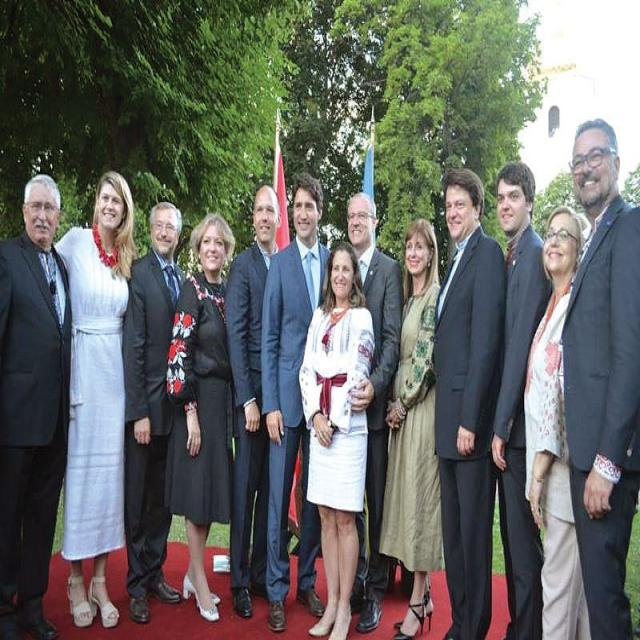body: (561, 115, 639, 639), (54, 169, 138, 629), (431, 166, 509, 639), (0, 170, 74, 638), (258, 169, 332, 633), (162, 206, 244, 622), (522, 201, 594, 640), (375, 218, 450, 639), (296, 240, 375, 638), (491, 159, 554, 640), (224, 182, 284, 620), (123, 201, 185, 618), (345, 190, 402, 633)
